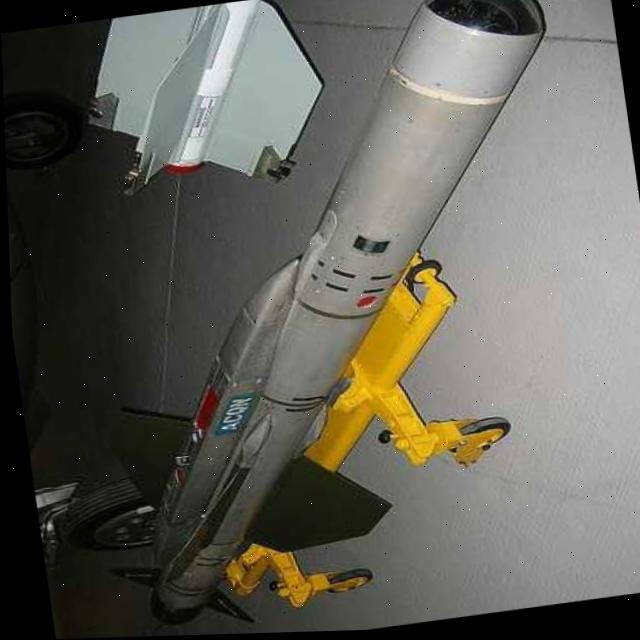missile: (34, 0, 625, 639)
